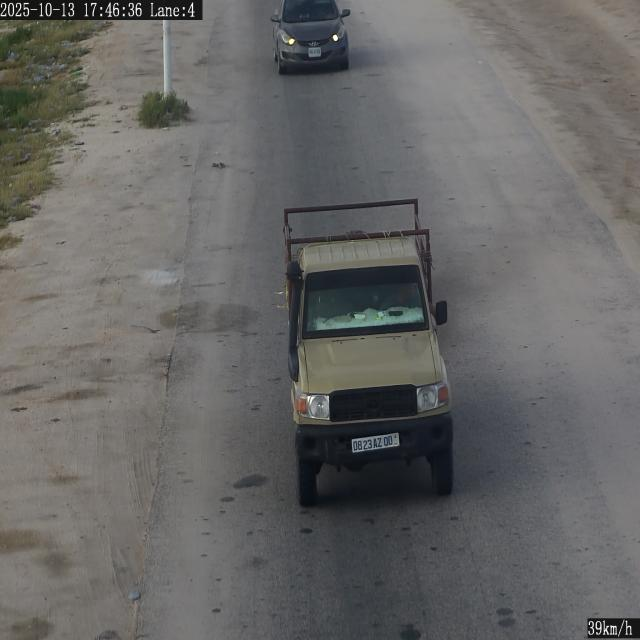BUS: (352, 433, 399, 452), (308, 47, 322, 58)
